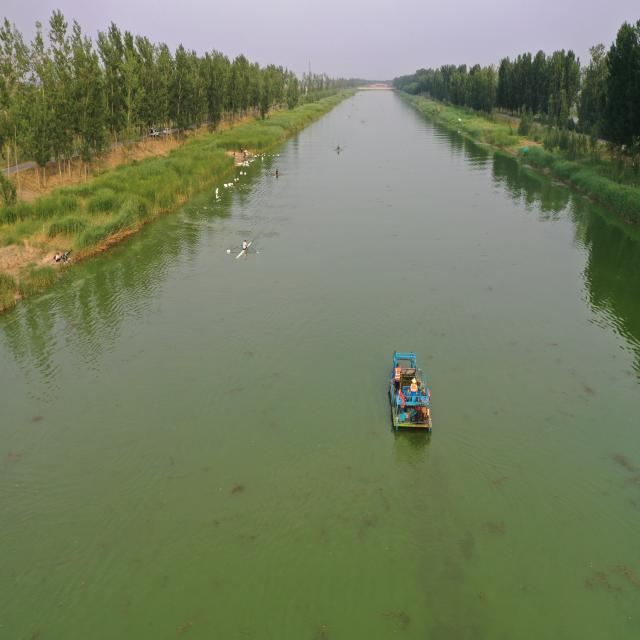plastic: (261, 156, 264, 162), (215, 190, 219, 194), (250, 156, 258, 158), (246, 159, 254, 161), (245, 163, 250, 166), (240, 171, 243, 175), (234, 178, 237, 182), (224, 184, 228, 187), (228, 182, 231, 186), (216, 187, 219, 191), (244, 161, 248, 164), (216, 193, 218, 198), (238, 162, 242, 164), (244, 172, 246, 175), (237, 178, 239, 181)
